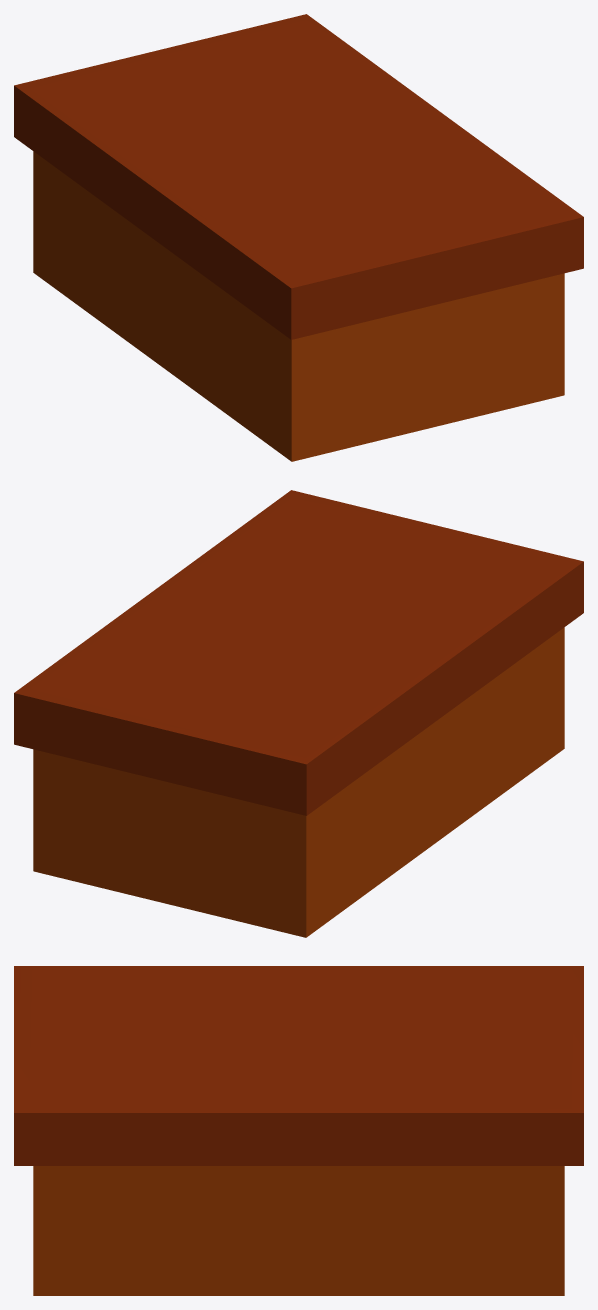
Rendered from Clothes_ShoeBox.fbx.
The picture shows the model from 3 angles, top to bottom: view 1: azimuth 30°, elevation 25°; view 2: azimuth 150°, elevation 25°; view 3: azimuth 270°, elevation 25°; orthographic projection. The views are drawn at different scales.
Parts seen in each view (by area): view 1: pasted__pCube98; view 2: pasted__pCube98; view 3: pasted__pCube98.
Part boxes in pixels (left/top/right/bottom): pasted__pCube98: left=14, top=14, right=583, bottom=461; pasted__pCube98: left=14, top=490, right=583, bottom=937; pasted__pCube98: left=14, top=966, right=583, bottom=1295.
Bounding box in the file's own units: 0.4878 × 0.2921 × 0.8005.
